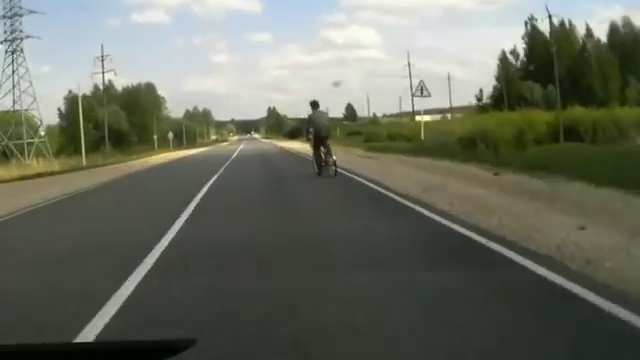cyclist_back: (306, 97, 340, 180)
